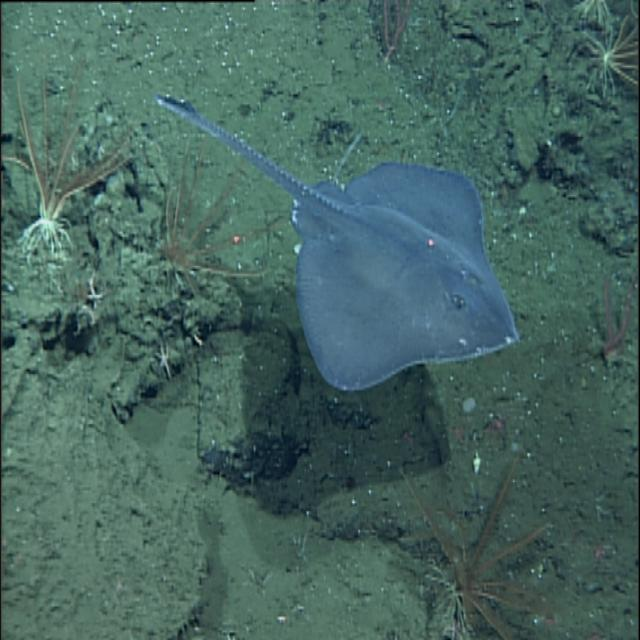Brittle Star: (146, 336, 182, 390), (81, 269, 115, 320), (282, 528, 318, 576), (240, 556, 276, 602)
Not Brittle Star: (116, 68, 554, 399), (377, 436, 559, 639), (2, 56, 152, 284), (158, 133, 283, 333), (576, 16, 639, 122), (597, 256, 638, 376), (362, 1, 413, 91)
